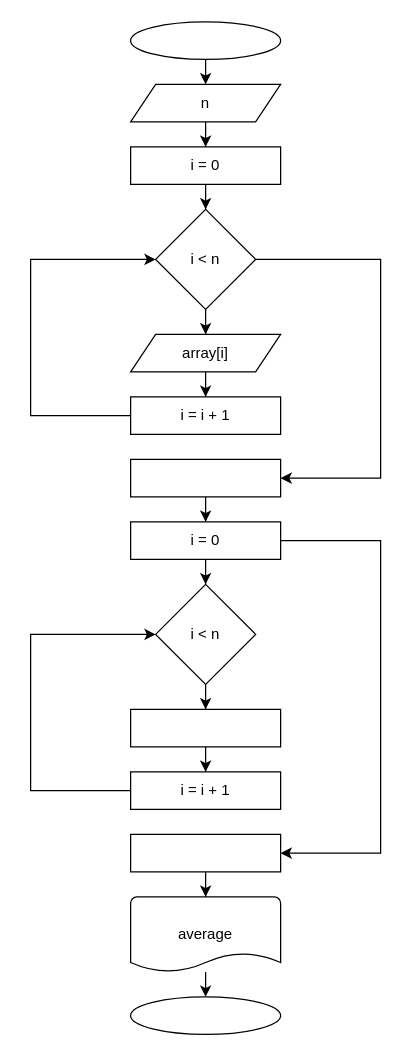
Some shapes in this 413 by 1056 pixel diagram are drawn without their labels. Here are the shapes that lost their labels. From the top down, the centre of each, then its label:
[205,40]: Inicio
[205,477]: average = 0
[205,727]: average += array[i]
[205,852]: average = average / n
[205,1015]: Fin
